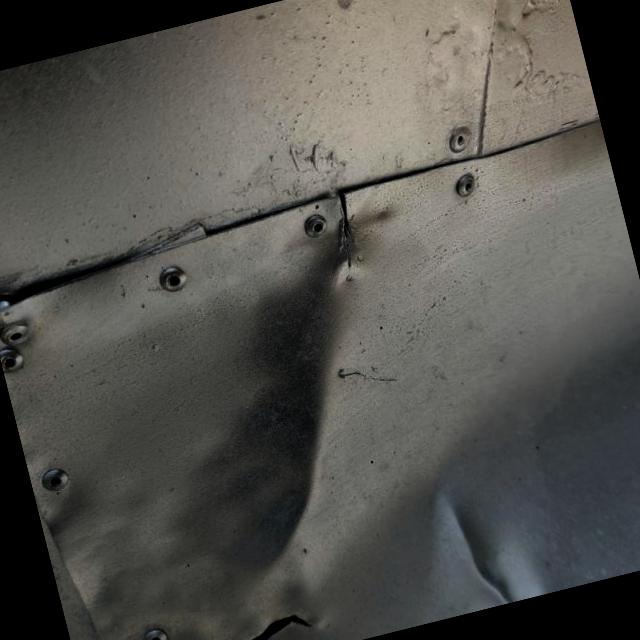crack: (116, 591, 329, 640), (312, 174, 384, 278)
dent: (116, 180, 532, 629), (384, 440, 564, 624)
